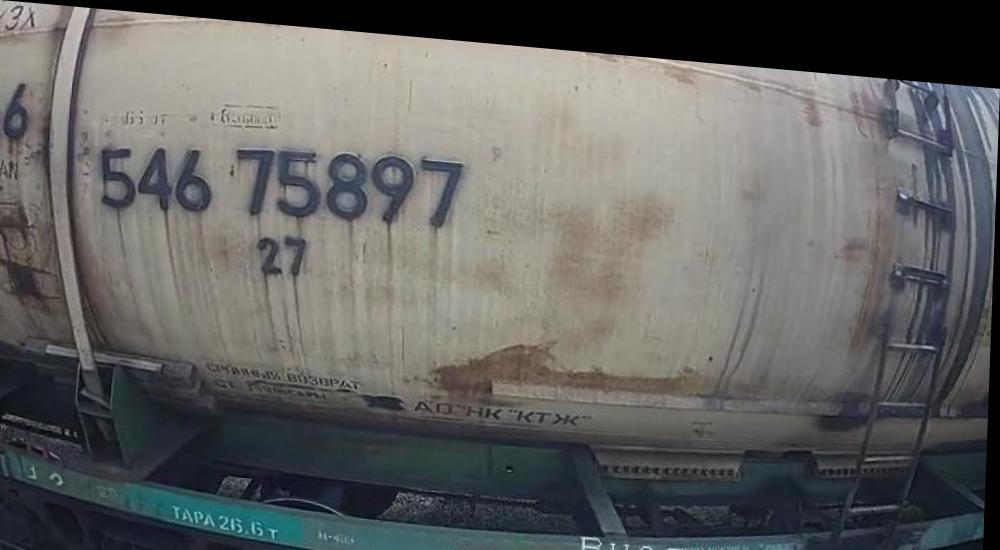Wagon-number: (95, 125, 471, 235)
